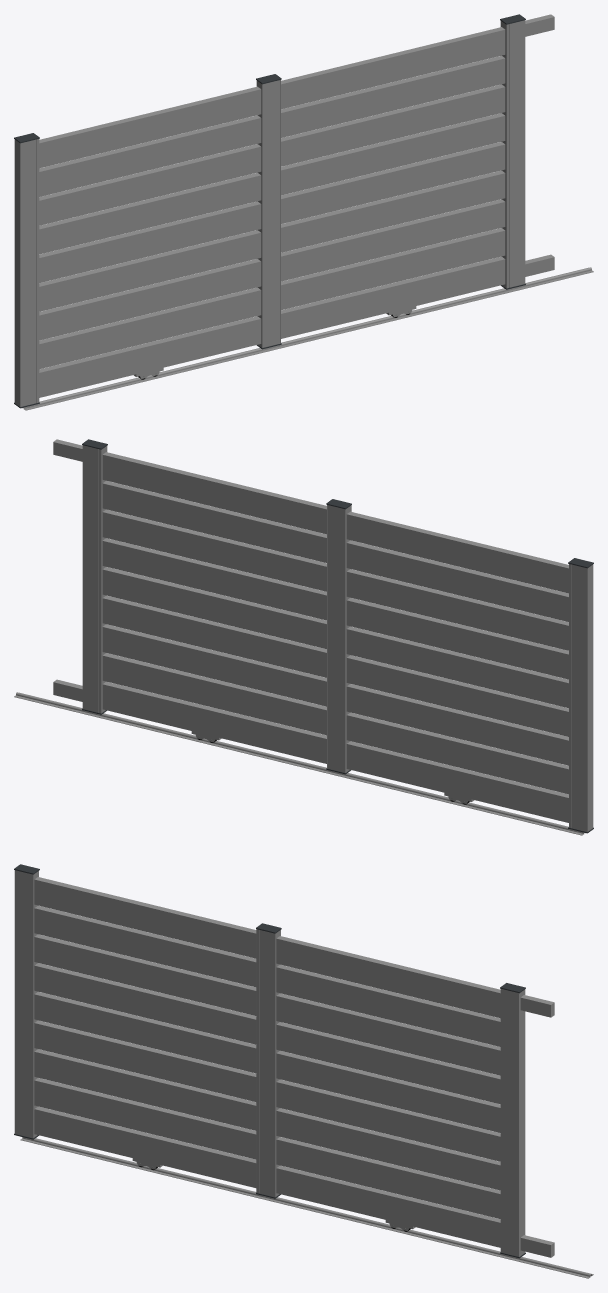
3 views of the same model, one above another, from view 1: azimuth 30°, elevation 25°; view 2: azimuth 150°, elevation 25°; view 3: azimuth 330°, elevation 25° (orthographic).
Parts seen in each view (by area): view 1: Shape201, Shape203, Shape204, Shape205, Shape208, Shape202, Shape207, Shape200, Shape206, Shape107412643, Shape107413021, Shape107413022 (+1 smaller); view 2: Shape208, Shape201, Shape202, Shape203, Shape205, Shape204, Shape206, Shape207, Shape200, Shape107412643, Shape107413021, Shape107413022 (+1 smaller); view 3: Shape202, Shape205, Shape200, Shape206, Shape201, Shape204, Shape207, Shape208, Shape203, Shape107413021, Shape107412643, Shape107413022 (+3 smaller).
Boxes of the visible parts, bbox=[...] form: Shape201: bbox=[39, 228, 505, 369]; Shape203: bbox=[39, 170, 505, 311]; Shape204: bbox=[39, 142, 505, 282]; Shape205: bbox=[39, 113, 505, 254]; Shape208: bbox=[39, 27, 505, 168]; Shape202: bbox=[39, 199, 505, 340]; Shape207: bbox=[39, 55, 505, 196]; Shape200: bbox=[39, 256, 505, 397]; Shape206: bbox=[39, 84, 505, 225]; Shape107412643: bbox=[14, 139, 39, 406]; Shape107413021: bbox=[500, 20, 525, 288]; Shape107413022: bbox=[256, 80, 280, 347]; Shape208: bbox=[102, 452, 568, 593]; Shape201: bbox=[102, 653, 568, 794]; Shape202: bbox=[102, 624, 568, 765]; Shape203: bbox=[102, 595, 568, 736]; Shape205: bbox=[102, 538, 568, 679]; Shape204: bbox=[102, 567, 568, 708]; Shape206: bbox=[102, 509, 568, 650]; Shape207: bbox=[102, 480, 568, 621]; Shape200: bbox=[102, 681, 568, 822]; Shape107412643: bbox=[569, 564, 593, 831]; Shape107413021: bbox=[82, 445, 107, 713]; Shape107413022: bbox=[327, 505, 351, 772]; Shape202: bbox=[34, 1049, 500, 1190]; Shape205: bbox=[34, 963, 500, 1104]; Shape200: bbox=[34, 1106, 500, 1247]; Shape206: bbox=[34, 934, 500, 1075]; Shape201: bbox=[34, 1078, 500, 1218]; Shape204: bbox=[34, 991, 500, 1132]; Shape207: bbox=[34, 905, 500, 1046]; Shape208: bbox=[34, 877, 500, 1018]; Shape203: bbox=[34, 1020, 500, 1161]; Shape107413021: bbox=[500, 989, 525, 1256]; Shape107412643: bbox=[14, 870, 38, 1138]; Shape107413022: bbox=[256, 929, 280, 1197].
Size of the model in its own units: 3638 by 1636 by 70.
6 materials, 2 textured.
